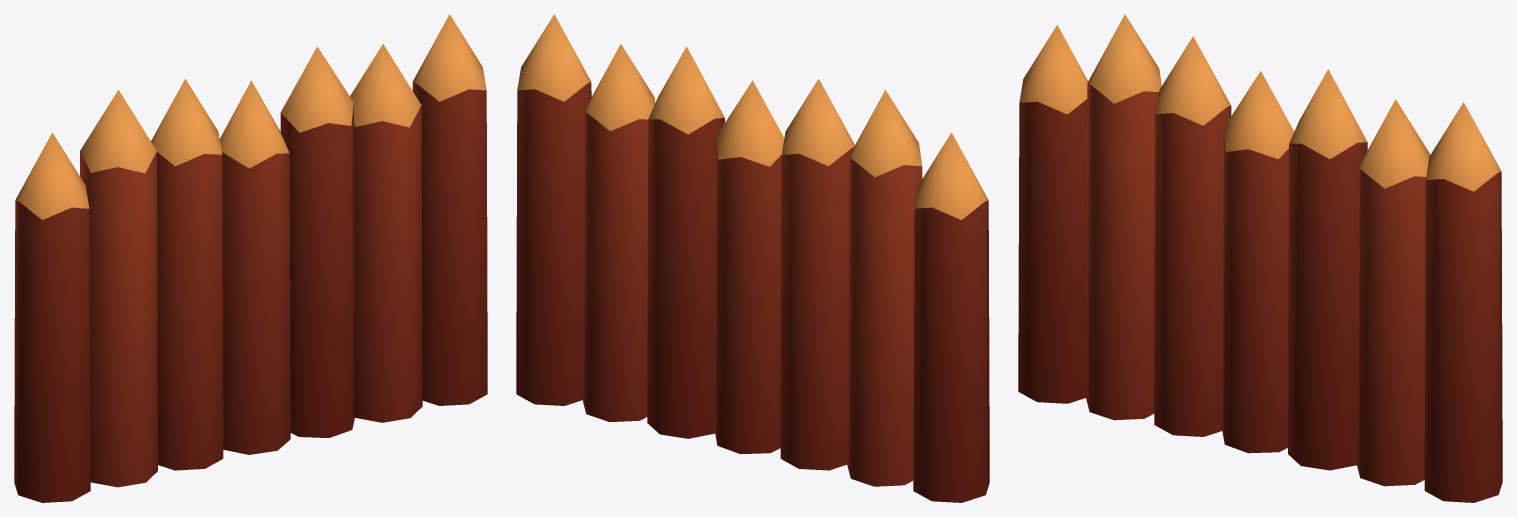
The model's file is Pallisade1.fbx.
The picture shows the model from 3 angles, left to right: view 1: azimuth 30°, elevation 25°; view 2: azimuth 150°, elevation 25°; view 3: azimuth 330°, elevation 25°; orthographic projection. The views are drawn at different scales.
Parts seen in each view (by area): view 1: Pallisade1; view 2: Pallisade1; view 3: Pallisade1.
Boxes of the visible parts, <box> form: Pallisade1: <box>14,14,487,502</box>; Pallisade1: <box>516,14,989,502</box>; Pallisade1: <box>1018,14,1502,502</box>.
Size of the model in its own units: 272 by 213 by 40.
